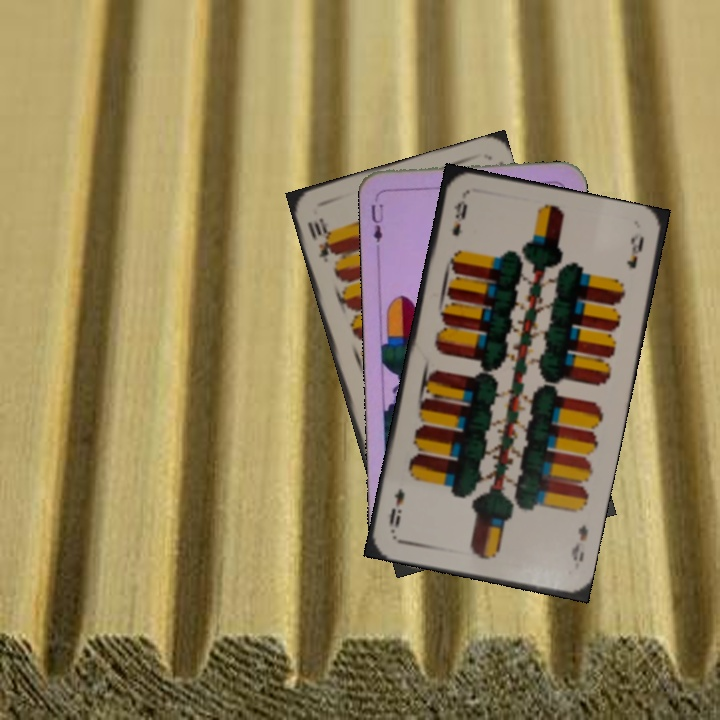E10: (303, 214, 339, 265)
E9: (567, 520, 591, 564), (448, 196, 470, 239)
EU: (367, 200, 386, 245)
